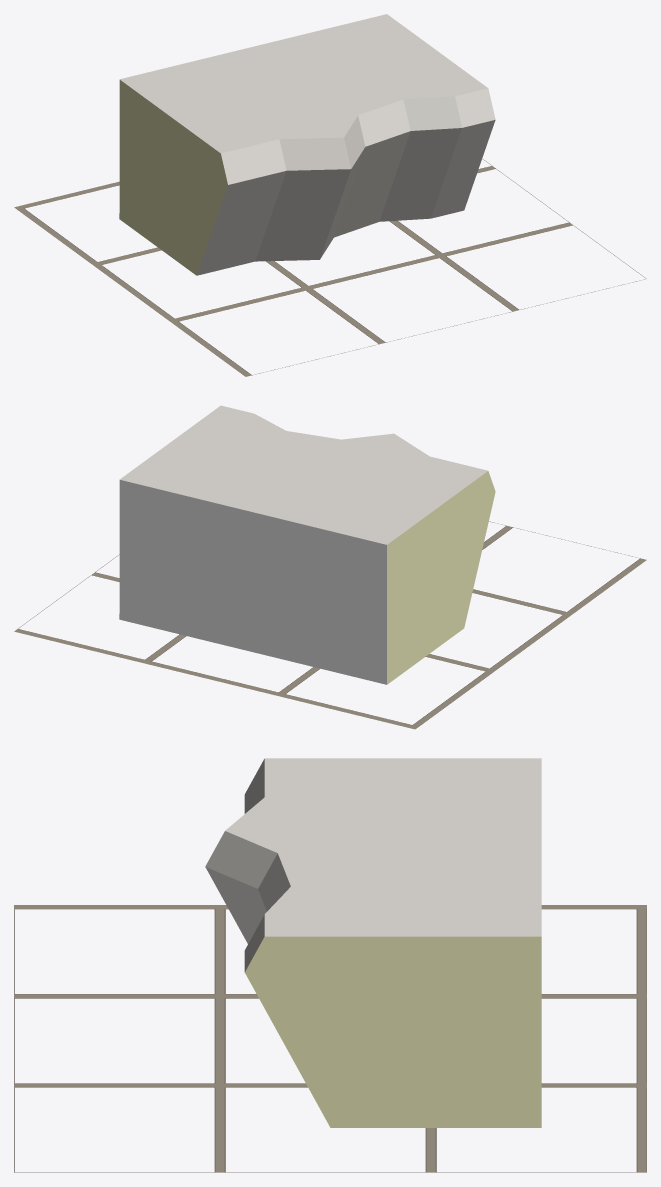
File: Cracked_Straight_2x2_2_Top.glb
3 views of the same model, one above another, from view 1: azimuth 30°, elevation 25°; view 2: azimuth 150°, elevation 25°; view 3: azimuth 270°, elevation 25° (orthographic). The views are drawn at different scales.
Parts seen in each view (by area): view 1: Cracked_Straight_2x2_2_Top, Floor; view 2: Cracked_Straight_2x2_2_Top, Floor; view 3: Cracked_Straight_2x2_2_Top, Floor.
Boxes of the visible parts, x1,y1,x2,y2 form: Cracked_Straight_2x2_2_Top: [119, 14, 495, 275]; Floor: [14, 159, 646, 376]; Cracked_Straight_2x2_2_Top: [119, 405, 495, 684]; Floor: [14, 521, 646, 729]; Cracked_Straight_2x2_2_Top: [205, 758, 541, 1127]; Floor: [14, 905, 646, 1172].
Bounding box in the file's own units: 300 × 100 × 300.
4 materials, 1 textured.
